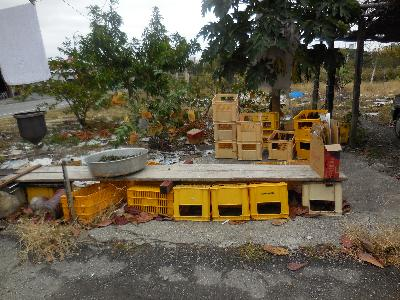bowl: (83, 145, 149, 177), (14, 110, 49, 146)
box: (208, 181, 252, 223), (248, 179, 289, 223), (170, 181, 211, 222), (265, 126, 299, 161), (210, 90, 239, 124), (234, 119, 264, 144)
